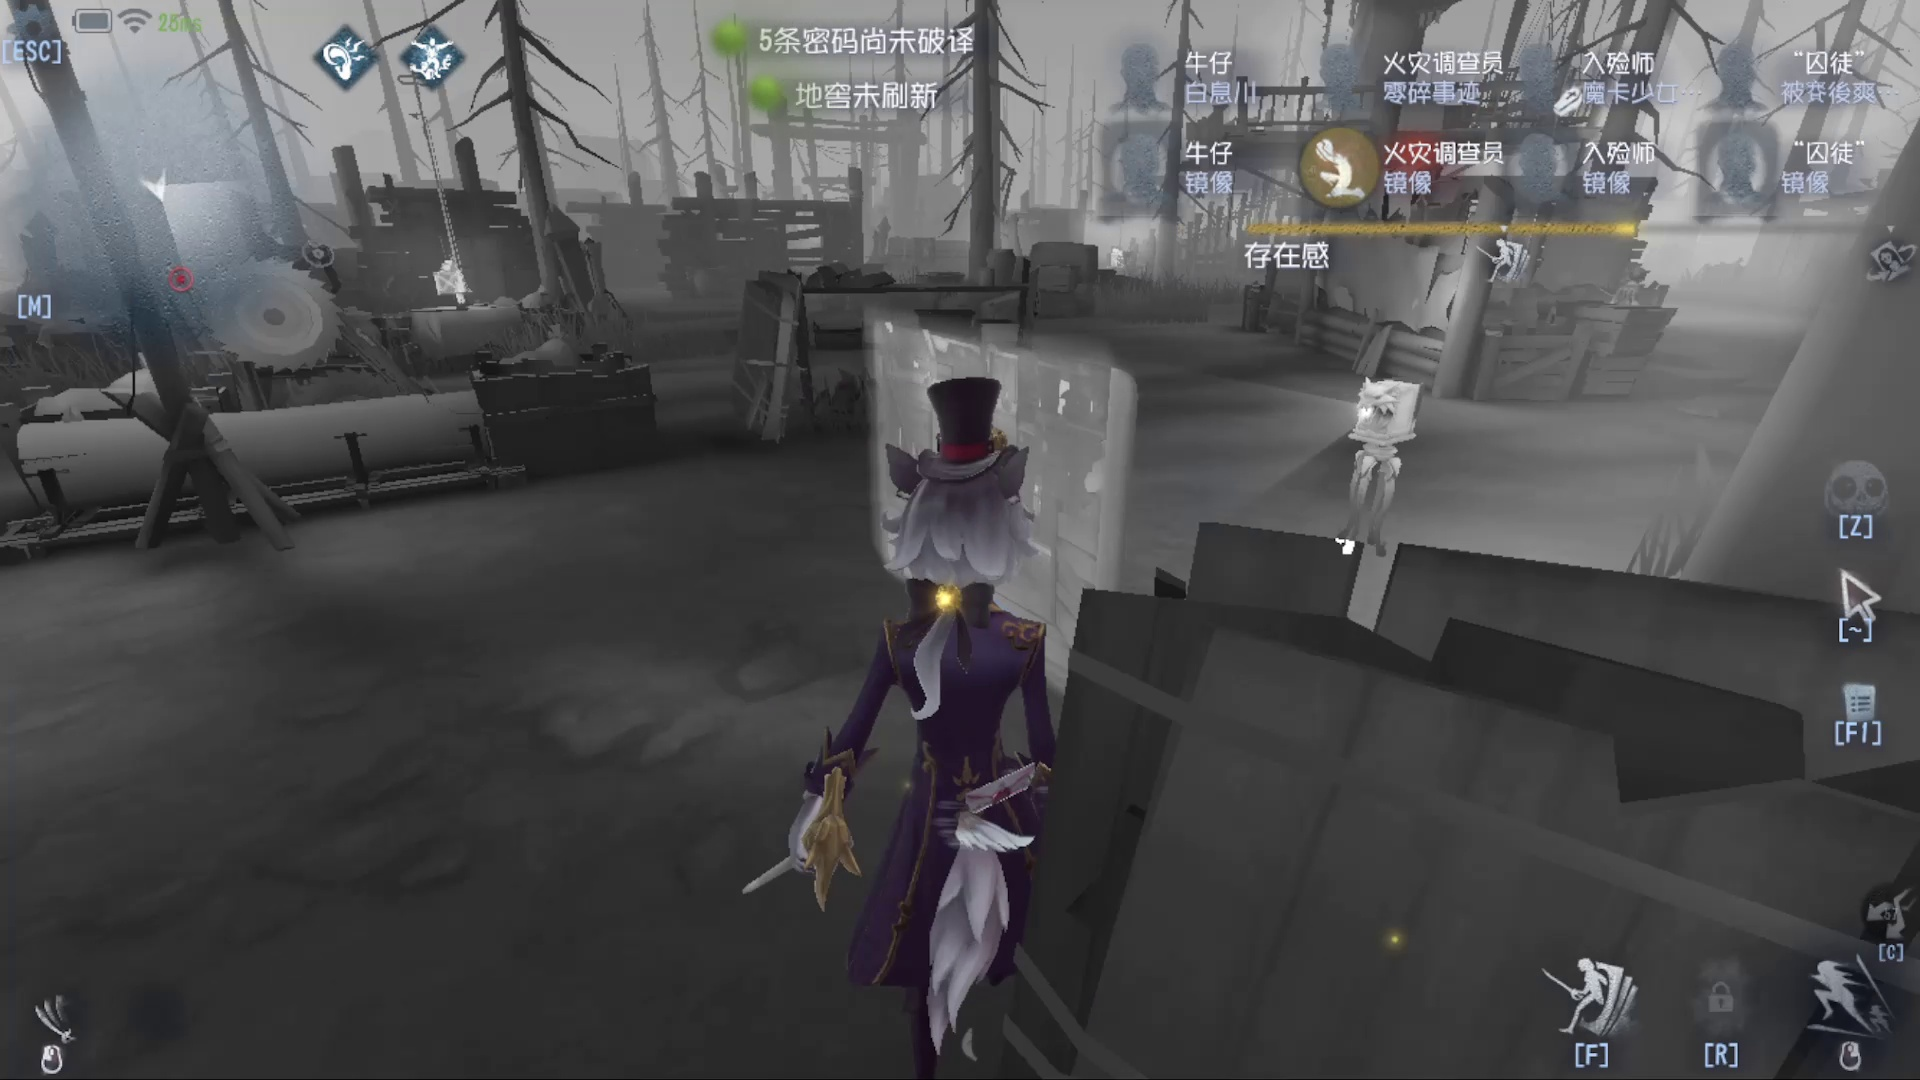密码机: (355, 95, 508, 320)
